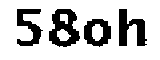5: (11, 5, 43, 50)
8: (48, 5, 84, 50)
h: (117, 6, 152, 50)
o: (83, 17, 112, 50)
